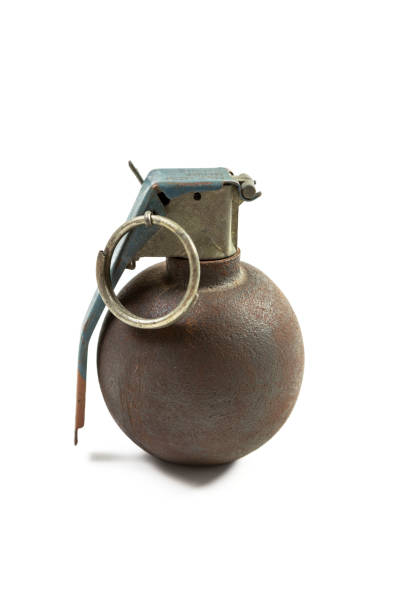e1: (75, 158, 306, 471)
